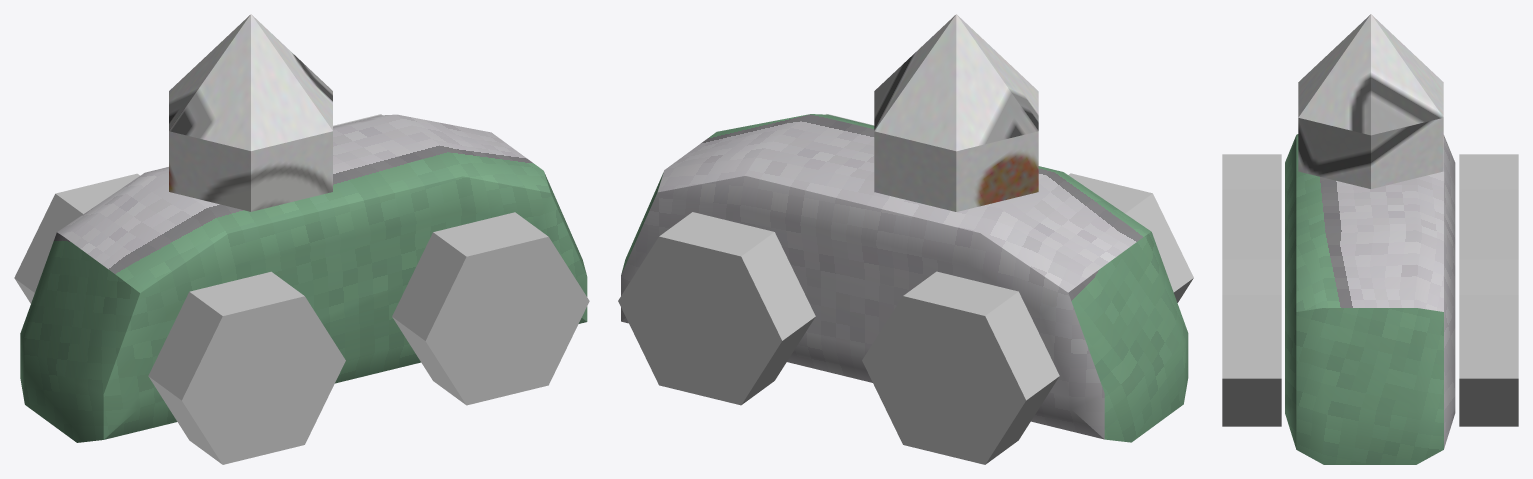
The model's file is Chinese_Toy.fbx.
The picture shows the model from 3 angles, left to right: view 1: azimuth 30°, elevation 25°; view 2: azimuth 150°, elevation 25°; view 3: azimuth 270°, elevation 25°; orthographic projection. The views are drawn at different scales.
Parts seen in each view (by area): view 1: Chinese_Toy; view 2: Chinese_Toy; view 3: Chinese_Toy.
Boxes of the visible parts, x1,y1,x2,y2 form: Chinese_Toy: (14, 14, 589, 464); Chinese_Toy: (618, 14, 1193, 464); Chinese_Toy: (1222, 14, 1518, 464).
Bounding box in the file's own units: 43.57 × 29.81 × 25.
